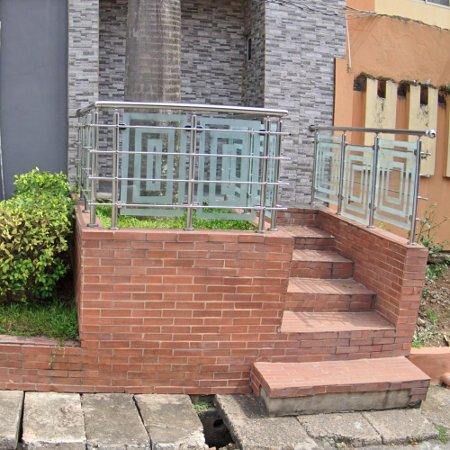stairs: (252, 226, 430, 417)
